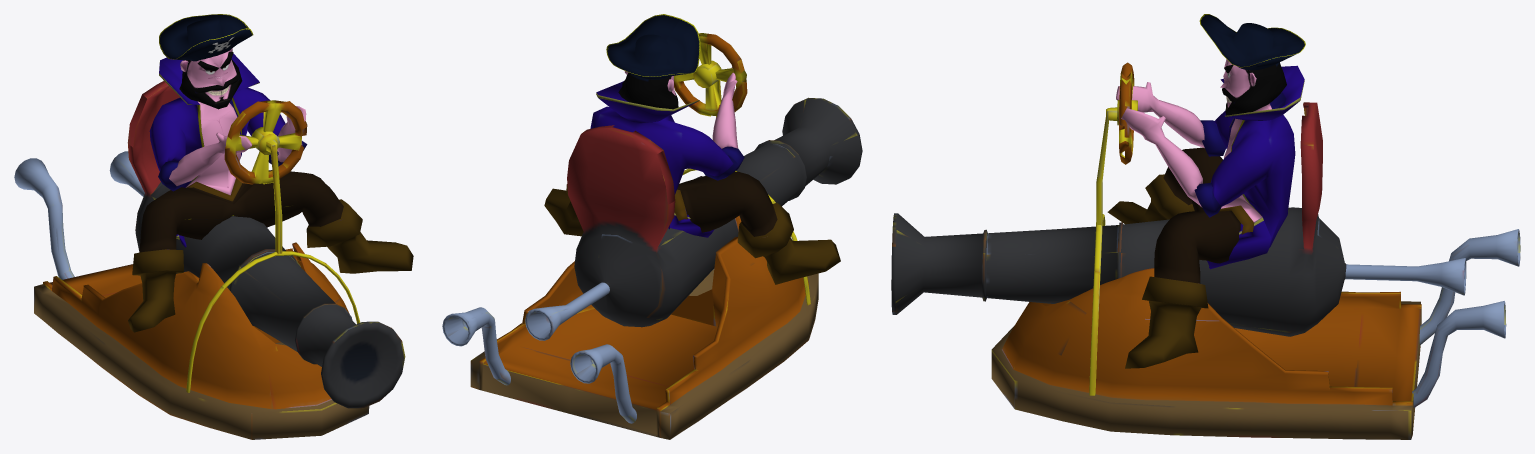
The model's file is PirataHabilidad_000201.obj.
The picture shows the model from 3 angles, left to right: view 1: azimuth 30°, elevation 25°; view 2: azimuth 150°, elevation 25°; view 3: azimuth 270°, elevation 25°; orthographic projection. The views are drawn at different scales.
Parts seen in each view (by area): view 1: carro_pirata_carro_pirata.001, Pirata_PirataH; view 2: carro_pirata_carro_pirata.001, Pirata_PirataH; view 3: carro_pirata_carro_pirata.001, Pirata_PirataH.
Part boxes in pixels (x1,y1,x2,y2): carro_pirata_carro_pirata.001: [14, 81, 405, 439]; Pirata_PirataH: [128, 14, 413, 332]; carro_pirata_carro_pirata.001: [442, 33, 862, 439]; Pirata_PirataH: [544, 14, 840, 284]; carro_pirata_carro_pirata.001: [891, 62, 1520, 439]; Pirata_PirataH: [1107, 14, 1305, 368].
Size of the model in its own units: 6.97 by 7.64 by 12.1.
